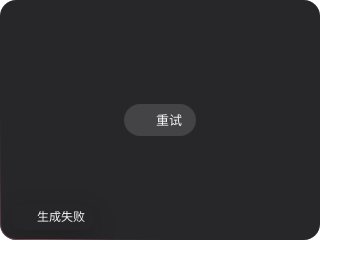
Scenario: RefineFrame staged node animation › shows the completed state and exposes retry only for failures
Step 1. Click the button with class "refine-frame__retry" → (160,120), box left=124, top=104, right=196, bottom=136
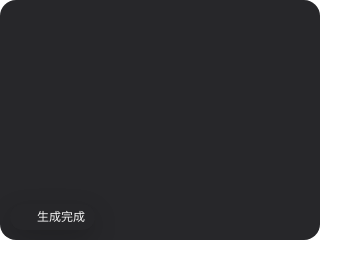
expect the button with class "refine-frame__retry" is gone: met
